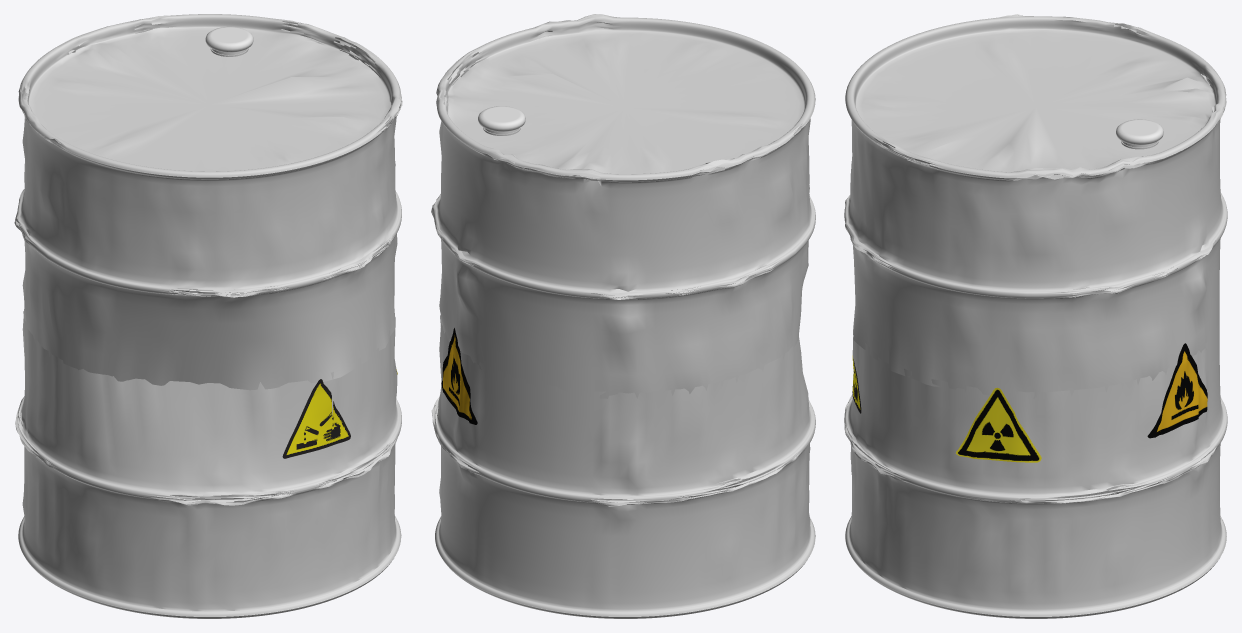
Rendered from barrel.fbx.
3 views of the same model, side by side, from view 1: azimuth 30°, elevation 25°; view 2: azimuth 150°, elevation 25°; view 3: azimuth 270°, elevation 25° (orthographic).
Visible parts, largest first — view 1: barrel; view 2: barrel; view 3: barrel.
Boxes of the visible parts, x1,y1,x2,y2 form: barrel: [14, 14, 402, 618]; barrel: [431, 14, 815, 618]; barrel: [844, 14, 1227, 618].
Bounding box in the file's own units: 623 × 801 × 621.
